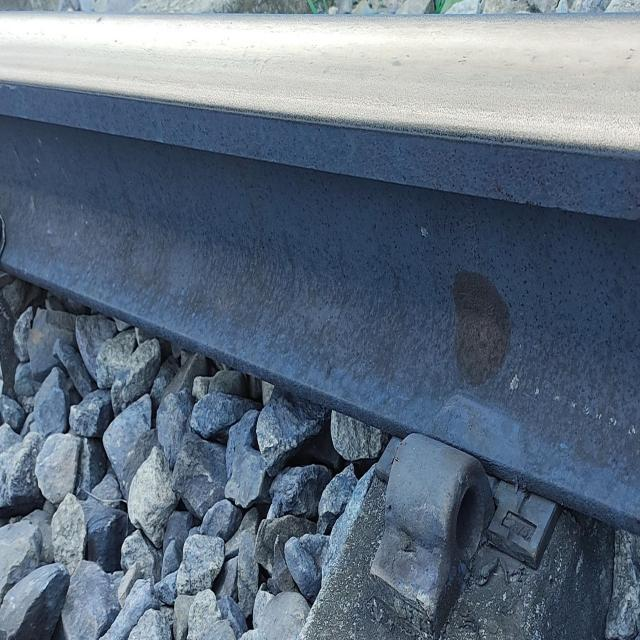Missing Fastener: (338, 392, 575, 639)
